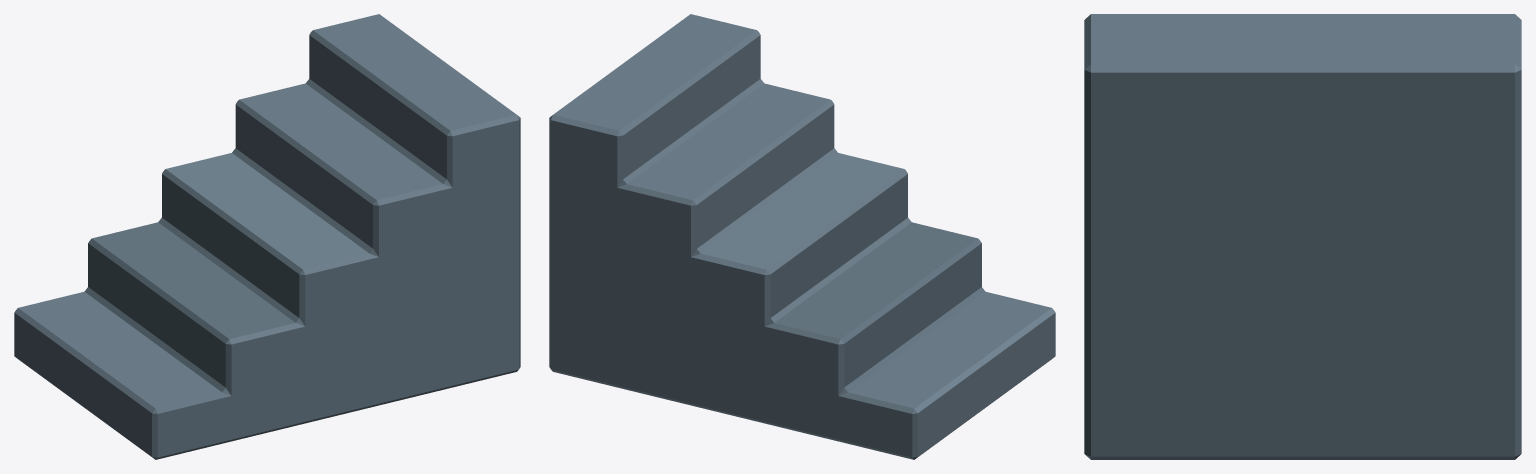
The model's file is P19_Stairs_5Steps.fbx.
The picture shows the model from 3 angles, left to right: view 1: azimuth 30°, elevation 25°; view 2: azimuth 150°, elevation 25°; view 3: azimuth 270°, elevation 25°; orthographic projection. The views are drawn at different scales.
Parts seen in each view (by area): view 1: P19_Stairs_5Steps; view 2: P19_Stairs_5Steps; view 3: P19_Stairs_5Steps.
Boxes of the visible parts, x1,y1,x2,y2 form: P19_Stairs_5Steps: [14, 14, 520, 459]; P19_Stairs_5Steps: [549, 14, 1055, 459]; P19_Stairs_5Steps: [1084, 14, 1521, 459].
Size of the model in its own units: 1.5 by 1 by 1.
1 material, 1 textured.
